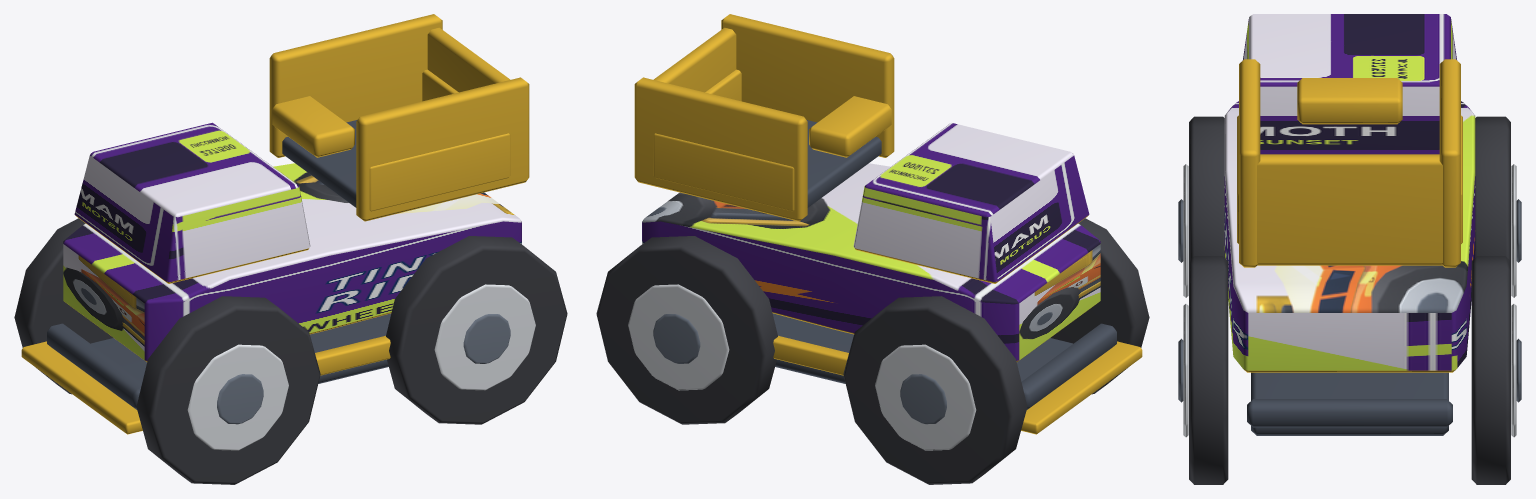
The picture shows the model from 3 angles, left to right: view 1: azimuth 30°, elevation 25°; view 2: azimuth 150°, elevation 25°; view 3: azimuth 270°, elevation 25°; orthographic projection. The views are drawn at different scales.
Parts seen in each view (by area): view 1: BW-04_connected_shell, BW-04_cabin, Tire, Tire.002, raised tipper wall, raised tipper wall.001, cargo side, Rim, Rim.002, Tire.001, custom chin, custom equipment (+8 smaller); view 2: BW-04_connected_shell, BW-04_cabin, Tire.001, Tire.003, raised tipper wall.001, raised tipper wall, cargo side.001, Rim.001, Rim.003, Tire, custom chin, custom equipment (+8 smaller); view 3: BW-04_connected_shell, BW-04_cabin, raised tail gate, Tire.002, Tire.003, underbody, rear bumper, Tire, Tire.001, custom equipment, raised tipper wall, raised tipper wall.001 (+6 smaller).
Boxes of the visible parts, x1,y1,x2,y2 form: BW-04_connected_shell: [63, 163, 521, 361]; BW-04_cabin: [74, 122, 310, 283]; Tire: [136, 296, 320, 484]; Tire.002: [386, 236, 567, 424]; raised tipper wall: [356, 77, 529, 221]; raised tipper wall.001: [269, 14, 442, 157]; cargo side: [369, 133, 510, 211]; Rim: [187, 344, 288, 450]; Rim.002: [434, 284, 535, 390]; Tire.001: [14, 218, 113, 394]; custom chin: [21, 341, 142, 434]; custom equipment: [272, 96, 354, 157]; BW-04_connected_shell: [642, 163, 1100, 361]; BW-04_cabin: [853, 122, 1089, 283]; Tire.001: [843, 296, 1027, 484]; Tire.003: [596, 236, 777, 424]; raised tipper wall.001: [634, 77, 807, 221]; raised tipper wall: [721, 14, 894, 157]; cargo side.001: [653, 133, 794, 211]; Rim.001: [875, 344, 976, 450]; Rim.003: [628, 284, 729, 390]; Tire: [1050, 218, 1149, 394]; custom chin: [1021, 341, 1142, 434]; custom equipment: [809, 96, 891, 157]; BW-04_connected_shell: [1224, 101, 1475, 372]; BW-04_cabin: [1242, 14, 1457, 154]; raised tail gate: [1257, 154, 1442, 265]; Tire.002: [1189, 256, 1228, 484]; Tire.003: [1471, 256, 1510, 484]; underbody: [1251, 372, 1448, 435]; rear bumper: [1247, 399, 1452, 427]; Tire: [1189, 116, 1224, 260]; Tire.001: [1475, 116, 1510, 260]; custom equipment: [1297, 78, 1402, 124]; raised tipper wall: [1239, 59, 1260, 267]; raised tipper wall.001: [1439, 59, 1460, 267].
Size of the model in its own units: 378 by 264 by 227.
